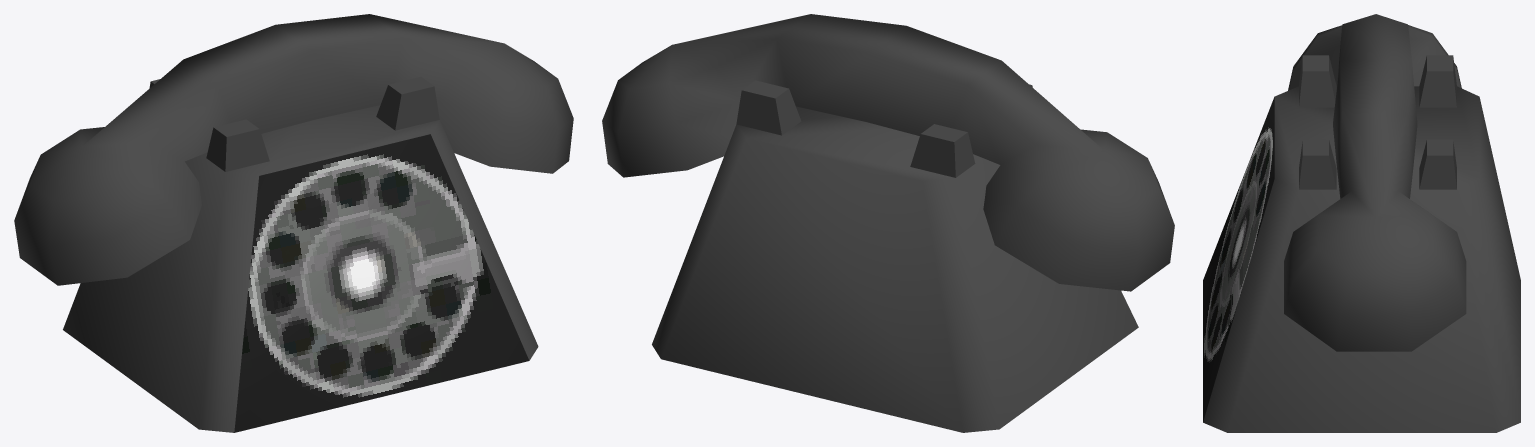
File: Telephone.glb
3 renders of one model, left to right at view 1: azimuth 30°, elevation 25°; view 2: azimuth 150°, elevation 25°; view 3: azimuth 270°, elevation 25°, orthographic. The views are drawn at different scales.
Visible parts, largest first — view 1: TELEPHONE; view 2: TELEPHONE; view 3: TELEPHONE.
Boxes of the visible parts, left/top/right/bottom form: TELEPHONE: left=14, top=14, right=573, bottom=432; TELEPHONE: left=602, top=14, right=1174, bottom=432; TELEPHONE: left=1203, top=14, right=1520, bottom=432.
Bounding box in the file's own units: 0.318 × 0.171 × 0.169.
Materials: 2 (1 with a texture image).
